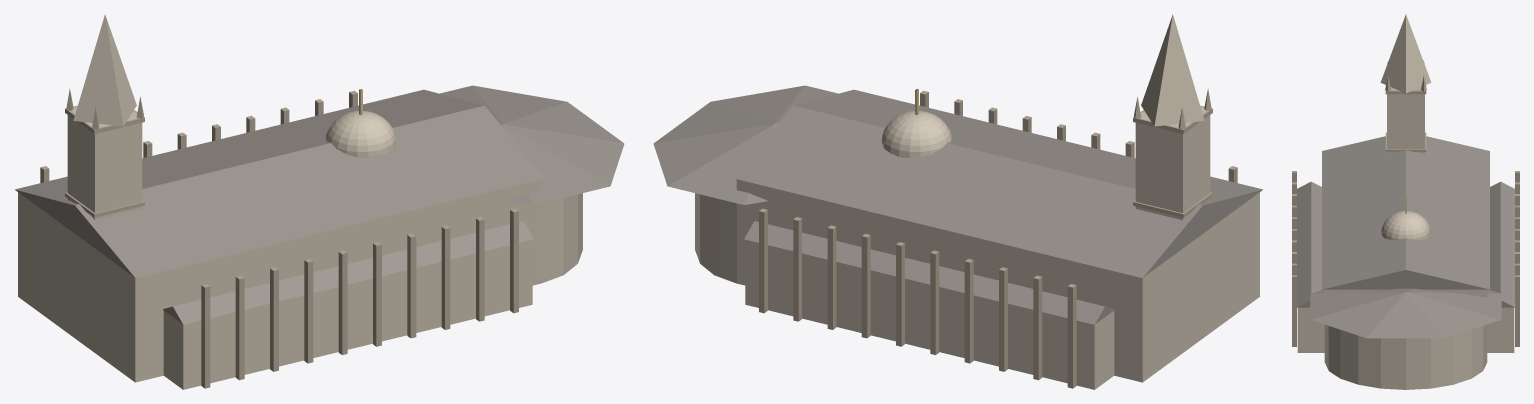
The model's file is catedraltoledo.glb.
3 views of the same model, side by side, from view 1: azimuth 30°, elevation 25°; view 2: azimuth 150°, elevation 25°; view 3: azimuth 270°, elevation 25° (orthographic). The views are drawn at different scales.
Bounding box in the file's own units: 154 × 90 × 84.2.
